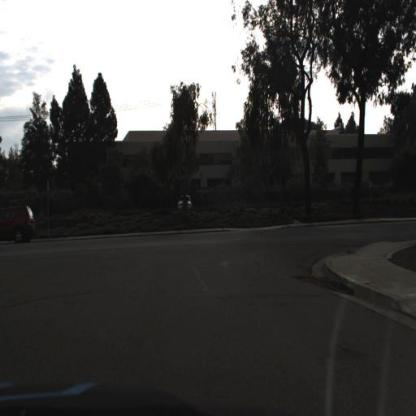car: (1, 202, 39, 241), (176, 192, 195, 217)
